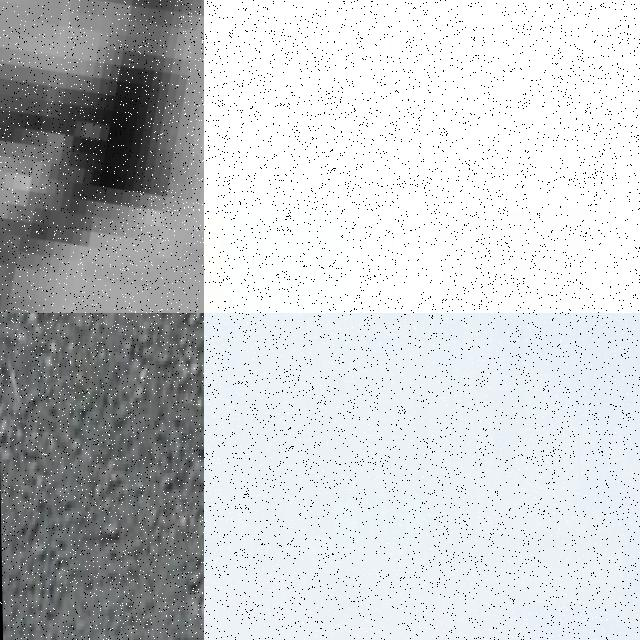drone: (0, 0, 204, 313)
